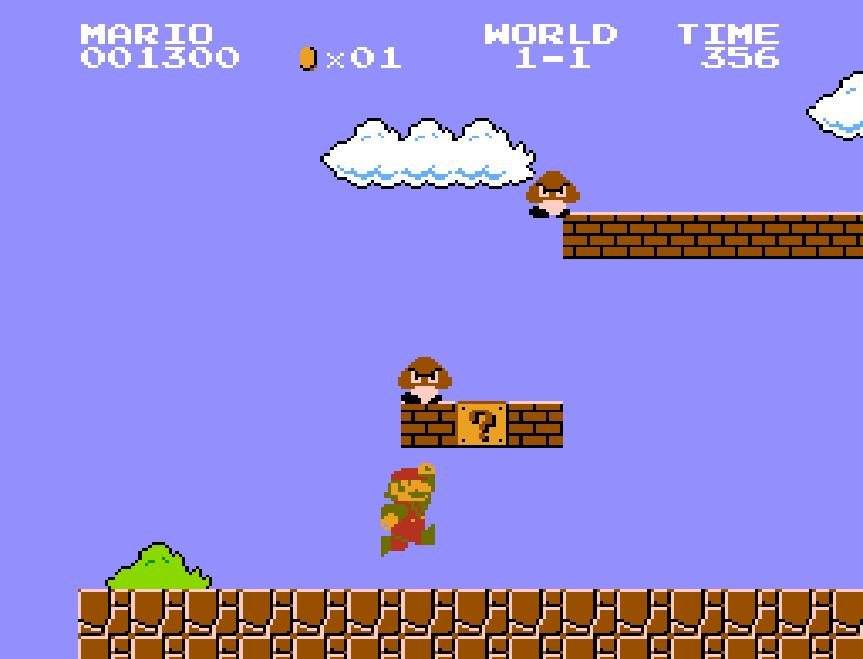big_mario: (379, 461, 437, 559)
